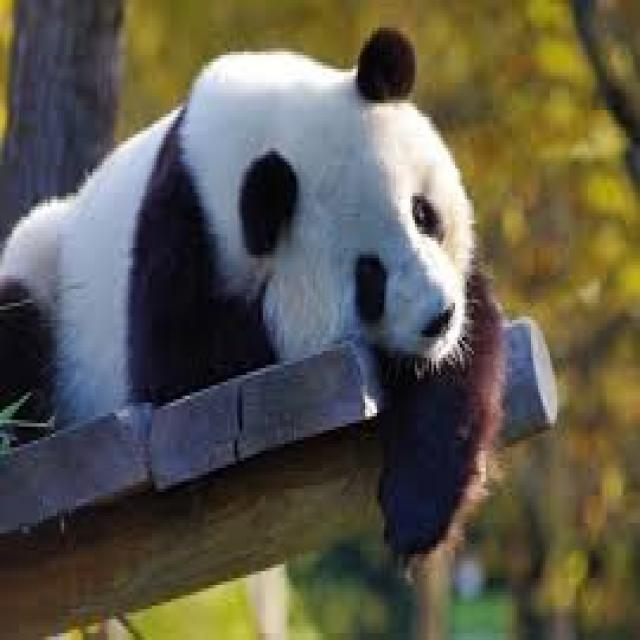Panda: (0, 24, 497, 575)
